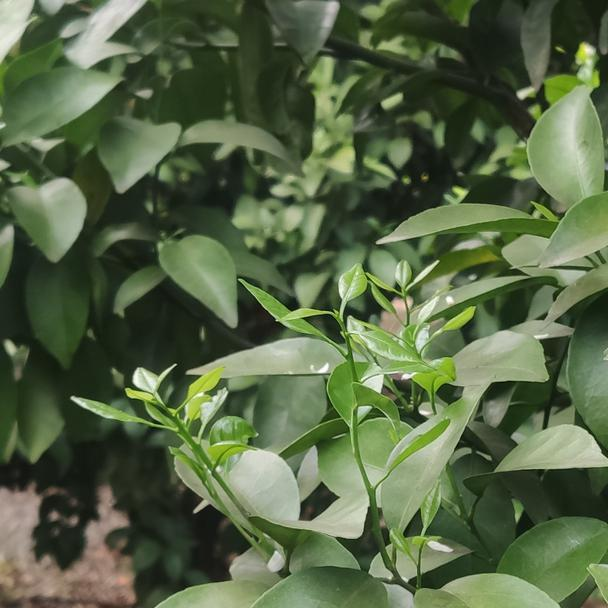shoot: (278, 266, 426, 464), (89, 351, 258, 497), (368, 257, 468, 423)
